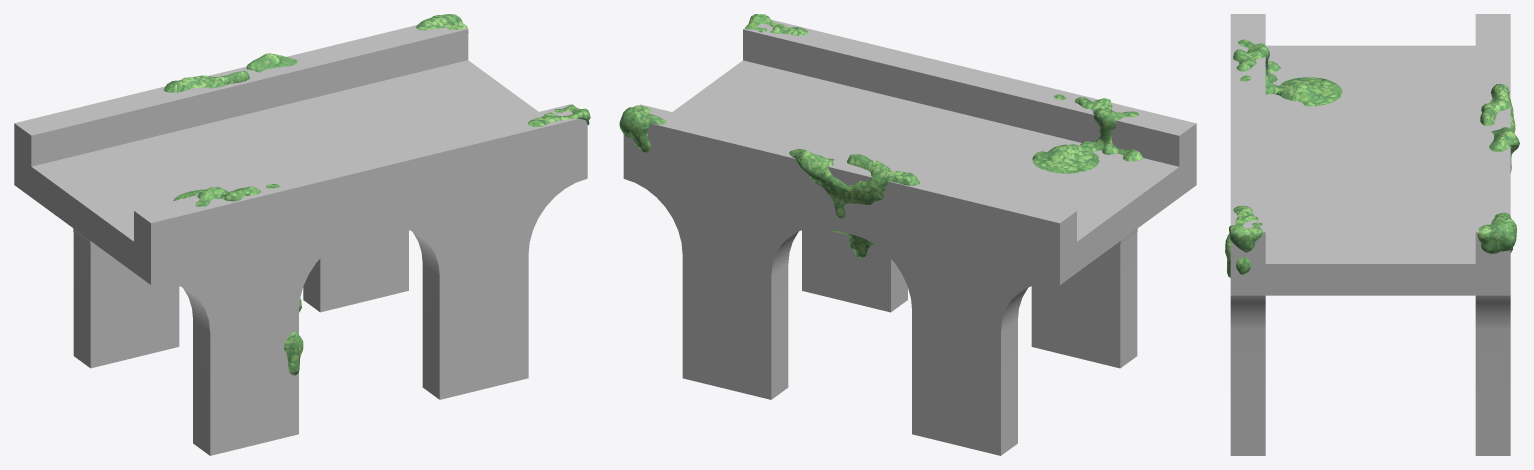
The model's file is bridge_rocks_02.fbx.
The picture shows the model from 3 angles, left to right: view 1: azimuth 30°, elevation 25°; view 2: azimuth 150°, elevation 25°; view 3: azimuth 270°, elevation 25°; orthographic projection. The views are drawn at different scales.
Visible parts, largest first — view 1: bridge-2, moss-2; view 2: bridge-2, moss-2; view 3: bridge-2, moss-2.
Part boxes in pixels (<box>): bridge-2: <box>14,25,587,455</box>; moss-2: <box>164,14,590,375</box>; bridge-2: <box>623,19,1196,455</box>; moss-2: <box>619,14,1142,258</box>; bridge-2: <box>1230,14,1510,455</box>; moss-2: <box>1225,39,1519,277</box>.
Size of the model in its own units: 748 by 413 by 421.
